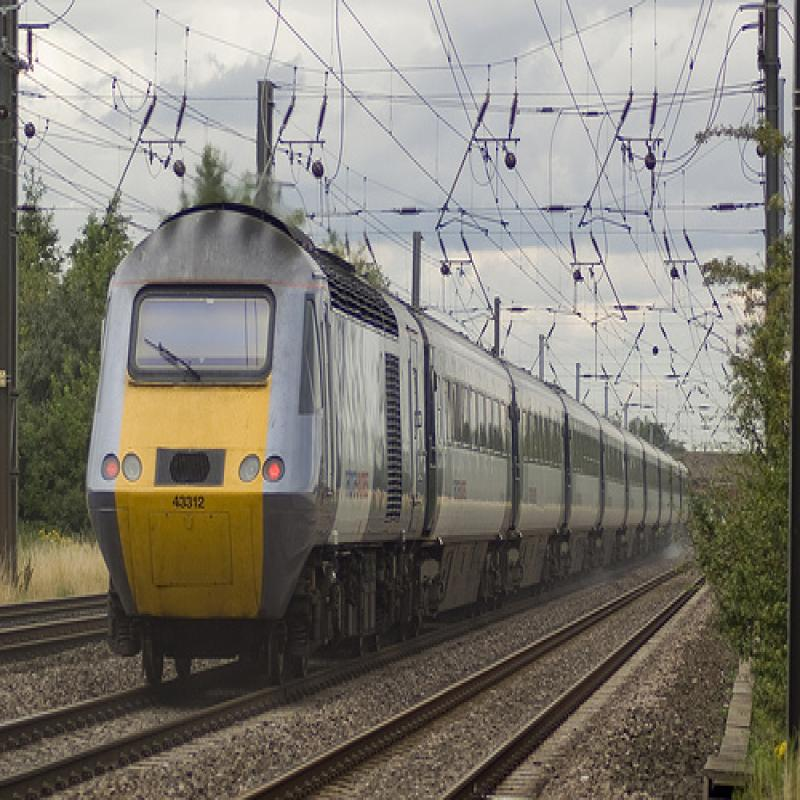train: (89, 211, 692, 677)
